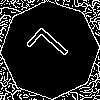L: (25, 25, 78, 76)
